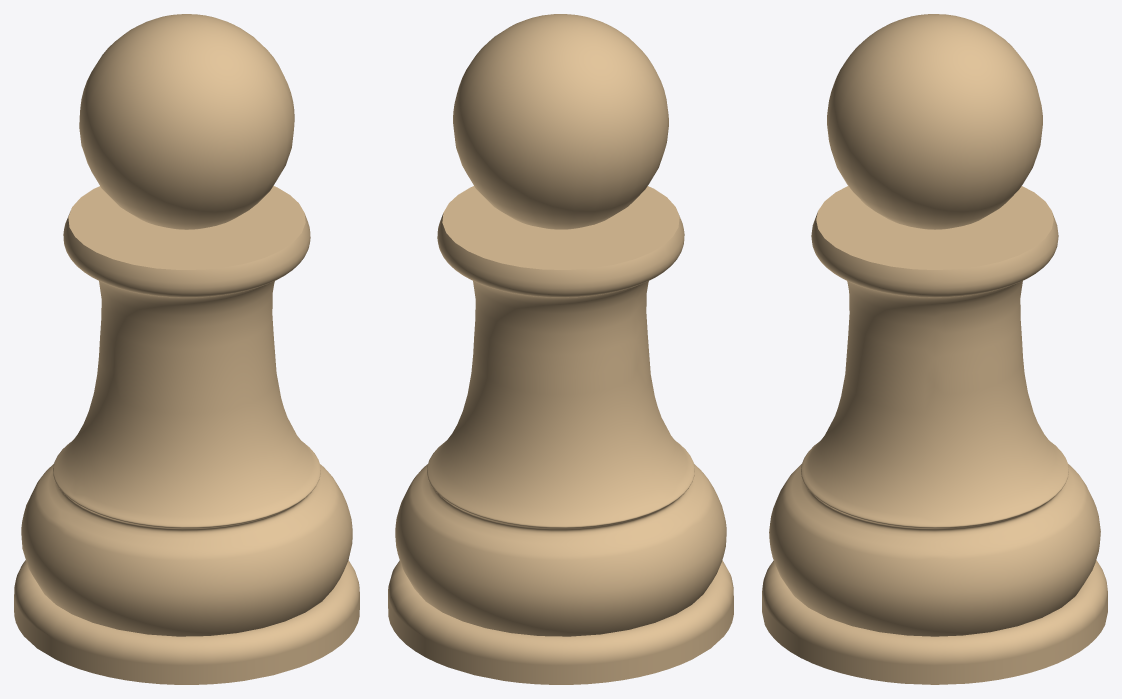
The model's file is Pawn.fbx.
The picture shows the model from 3 angles, left to right: view 1: azimuth 30°, elevation 25°; view 2: azimuth 150°, elevation 25°; view 3: azimuth 270°, elevation 25°; orthographic projection.
Visible parts, largest first — view 1: Body2; view 2: Body2; view 3: Body2.
Part boxes in pixels (x1,y1,x2,y2): Body2: [14, 14, 359, 684]; Body2: [388, 14, 733, 684]; Body2: [762, 14, 1107, 684].
Size of the model in its own units: 80 by 150 by 80.
